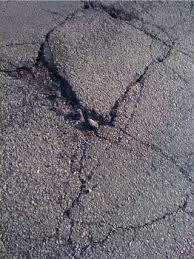roadCrash: (26, 35, 137, 135)
